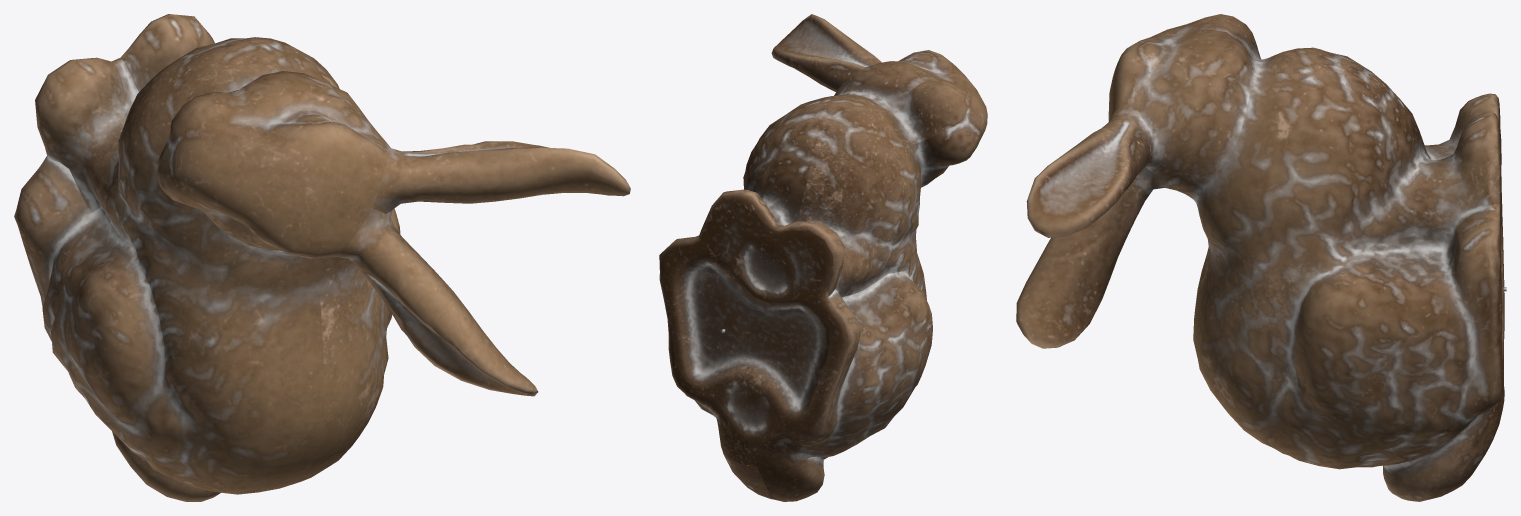
Rendered from bunny1.obj.
3 renders of one model, left to right at view 1: azimuth 30°, elevation 25°; view 2: azimuth 150°, elevation 25°; view 3: azimuth 270°, elevation 25°, orthographic. The views are drawn at different scales.
Size of the model in its own units: 0.7593 by 0.9964 by 1.
